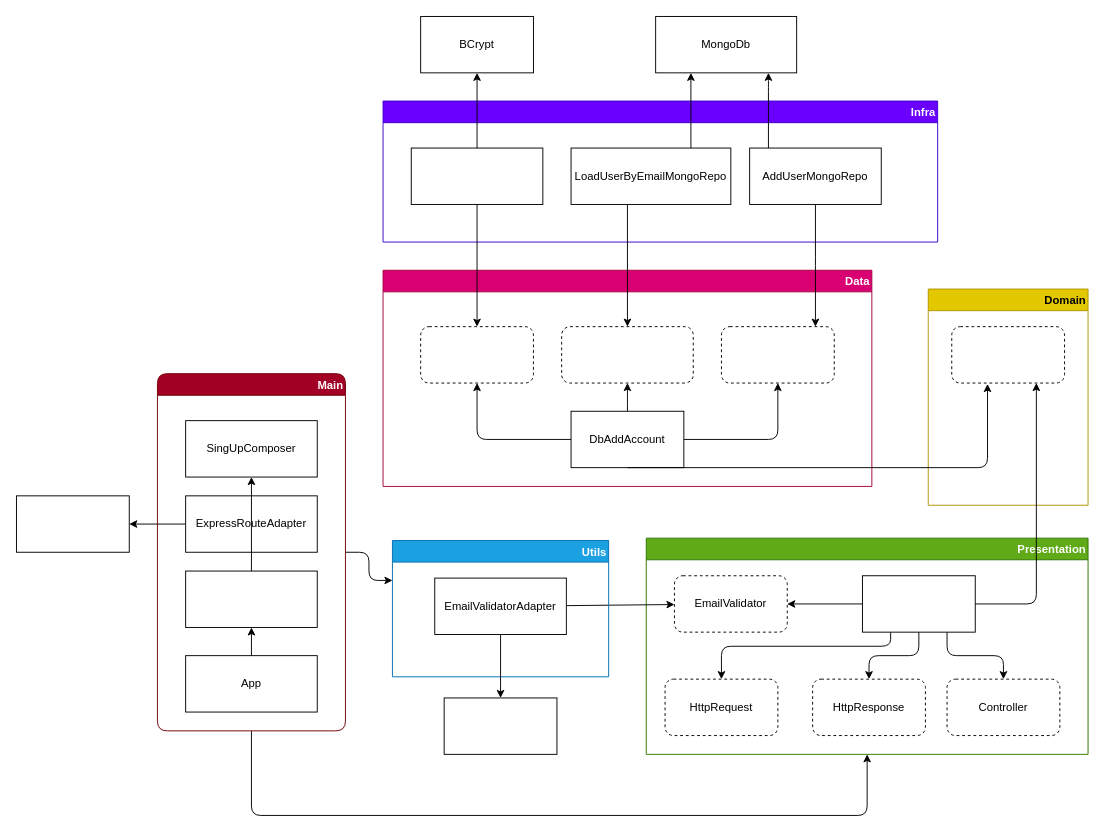
Image size: 1105x839. Some labels were removed from this diagram. The shapes that lost their labels are listed below. From the top down, each one's centre as x and y in pixels, then its label:
pixel 476 175: BcryptAdapter
pixel 476 354: Encrypter
pixel 627 354: LoaduserbyEmailRespo
pixel 777 354: AddUserRepo
pixel 1008 354: AddAccount
pixel 72 523: Express
pixel 251 598: SingUpRouter
pixel 918 603: SignUPController
pixel 500 725: Validator
